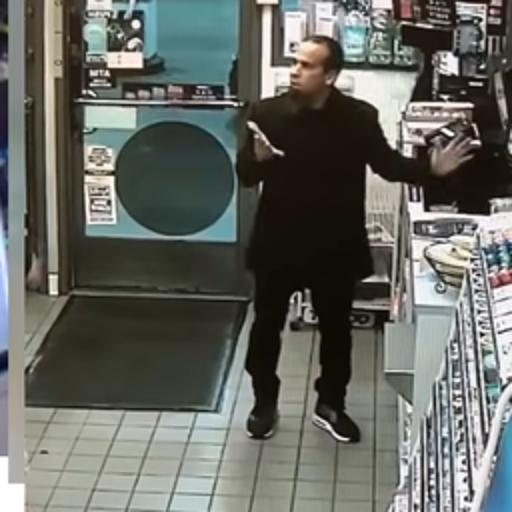Humans: (230, 31, 462, 493)
